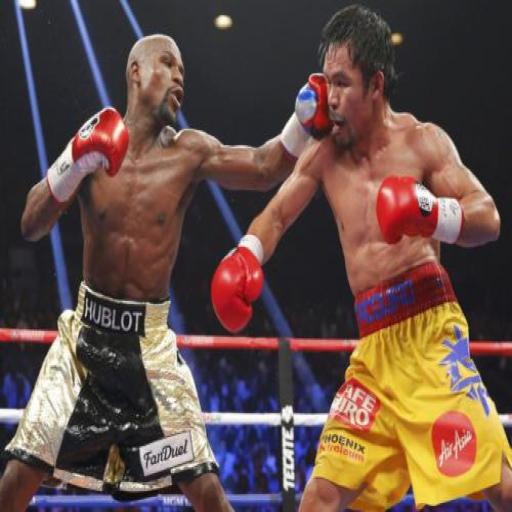boxing: (0, 30, 333, 510), (209, 3, 511, 510)
